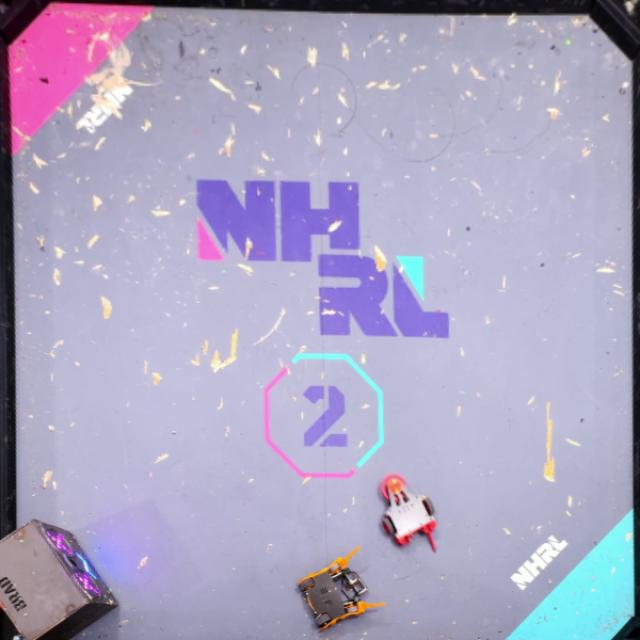housebot: (0, 518, 118, 639)
robot: (296, 546, 385, 631), (381, 473, 435, 551)
